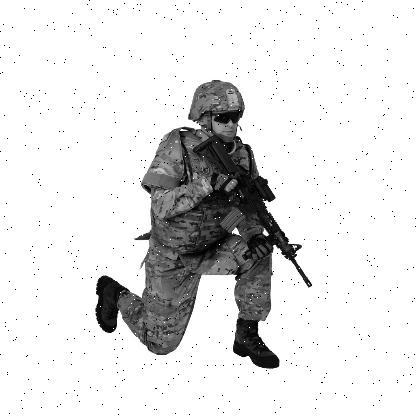gun: (190, 151, 314, 308)
